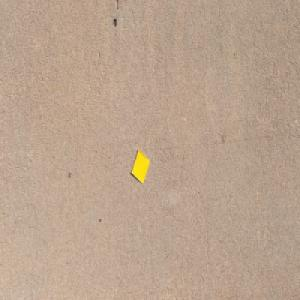PlasticPart: (130, 148, 149, 184)
